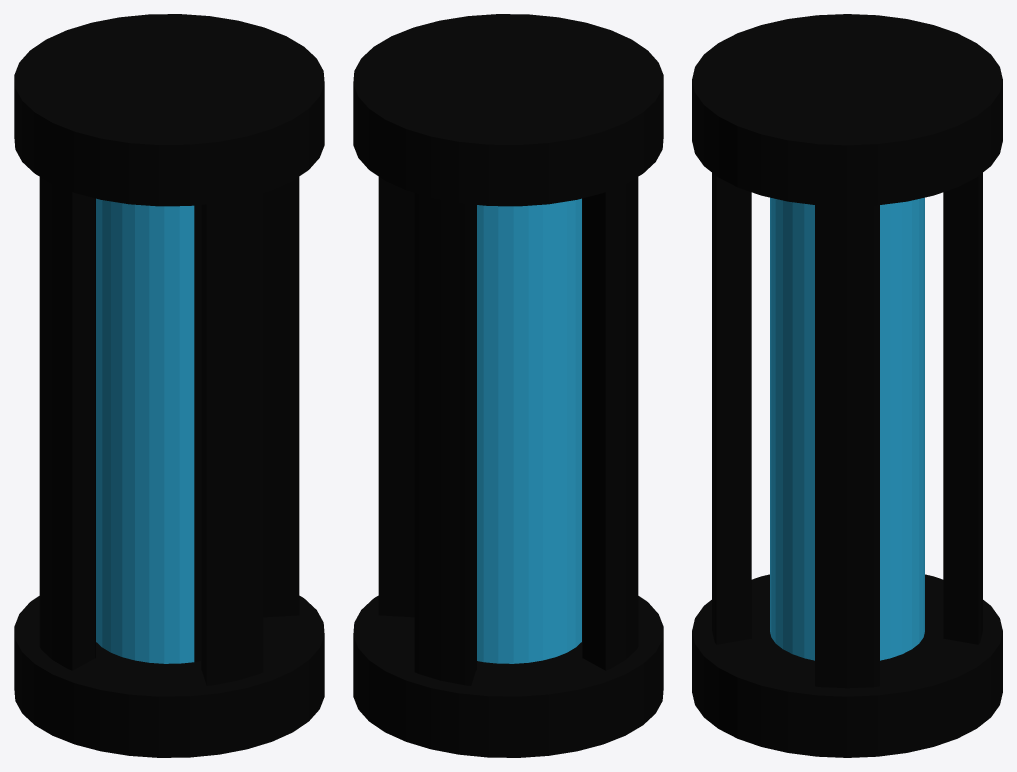
The model's file is Nexus.fbx.
3 views of the same model, side by side, from view 1: azimuth 30°, elevation 25°; view 2: azimuth 150°, elevation 25°; view 3: azimuth 270°, elevation 25° (orthographic).
Visible parts, largest first — view 1: Nexus; view 2: Nexus; view 3: Nexus.
Boxes of the visible parts, x1,y1,x2,y2 form: Nexus: (14, 14, 324, 757); Nexus: (353, 14, 663, 757); Nexus: (692, 14, 1002, 757).
Bounding box in the file's own units: 23 × 50 × 23.
